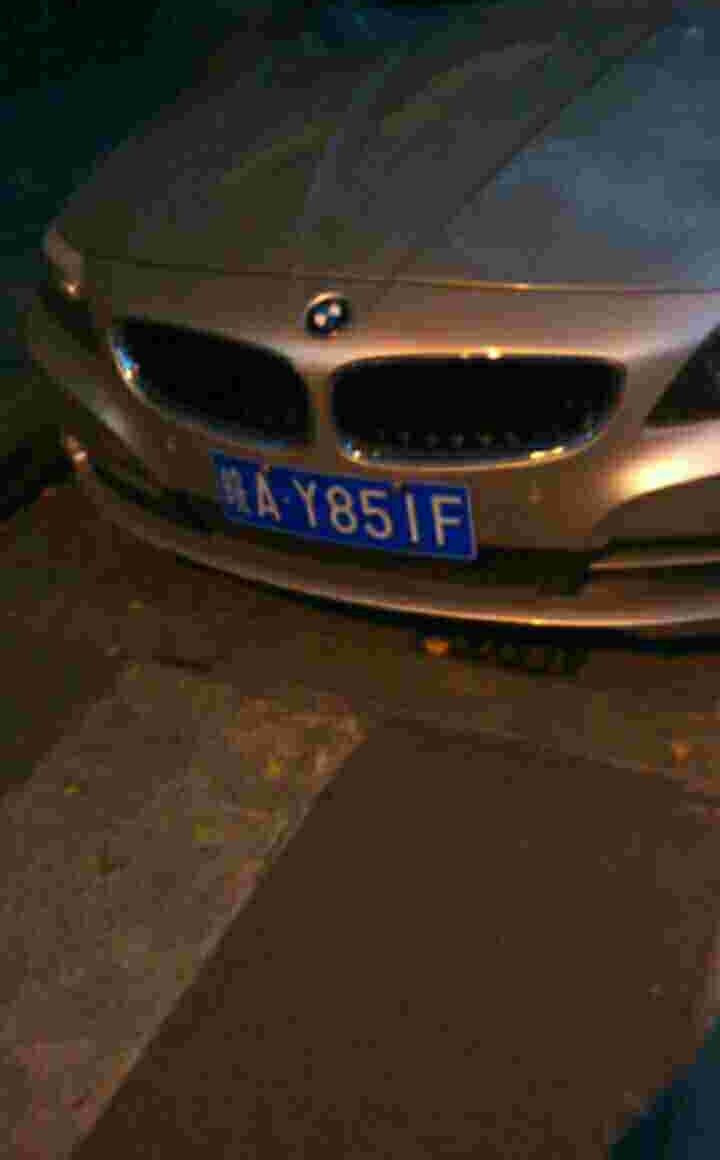car: (205, 450, 476, 560)
